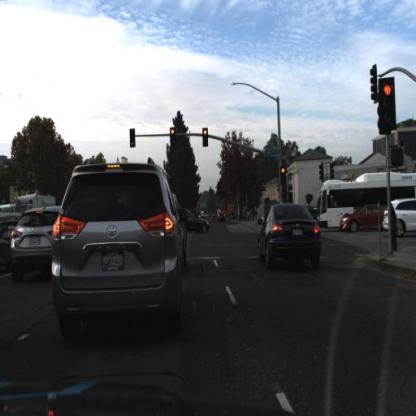car: (51, 159, 188, 334), (317, 168, 415, 236), (257, 200, 319, 271), (12, 206, 65, 280), (340, 202, 401, 236), (4, 201, 18, 278), (182, 204, 213, 238), (2, 214, 15, 276), (183, 203, 204, 230), (215, 210, 230, 229), (218, 209, 228, 223)
pedestrian: (389, 202, 399, 253), (252, 208, 259, 225)
trafficLight: (129, 126, 137, 149)
trafficLight-Red: (378, 76, 399, 140), (202, 125, 210, 148), (169, 126, 177, 147), (280, 165, 287, 184)
truck: (315, 177, 355, 226), (13, 186, 59, 220)
